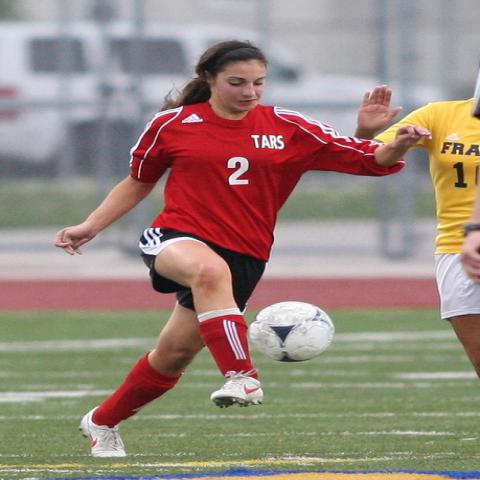truck: (0, 15, 444, 176)
